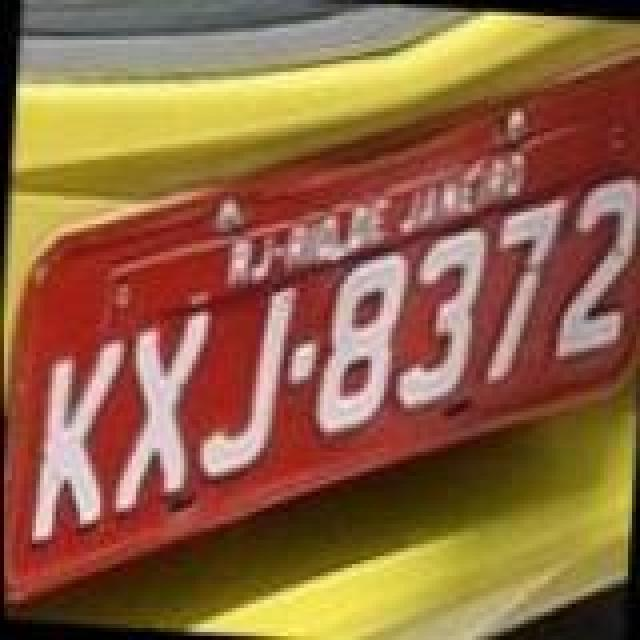2: (544, 168, 640, 360)
3: (394, 224, 490, 420)
7: (478, 188, 566, 396)
8: (312, 246, 412, 442)
J: (198, 276, 298, 488)
K: (24, 328, 120, 552)
X: (110, 304, 210, 524)
